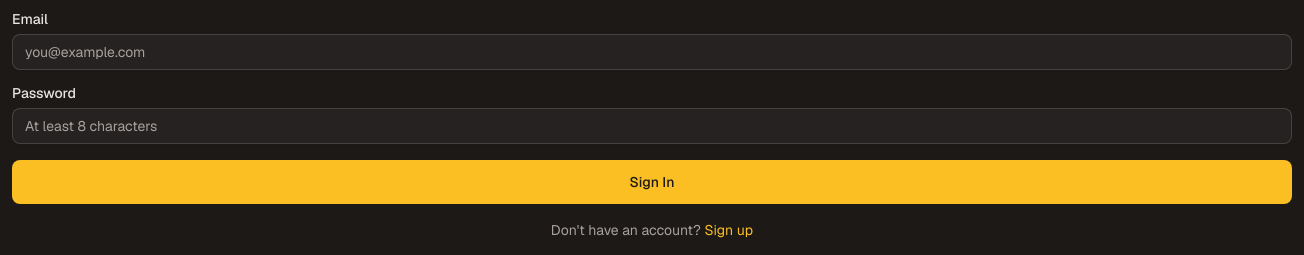
EmailPasswordForm › shows loading state during submission
The width and height of the screenshot is (1304, 255).
Step 1. Type "test@example.com" into the field labelled "Email" → (652, 52), box x1=12 y1=34 x2=1292 y2=70
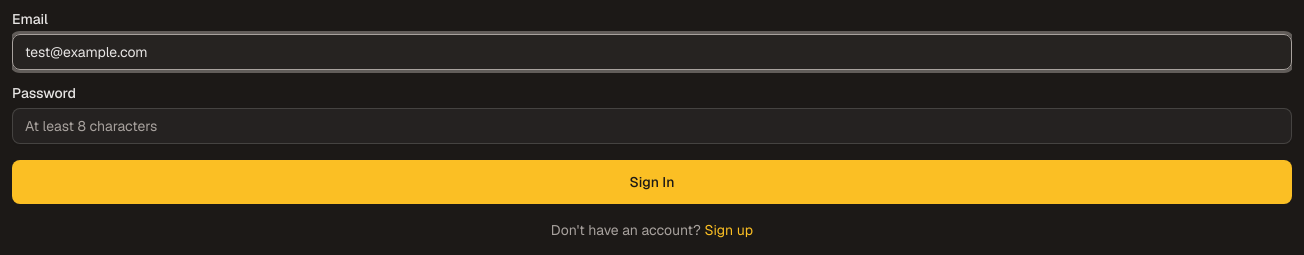
Step 2. Type "password123" into the password field labelled "Password" → (652, 126), box x1=12 y1=108 x2=1292 y2=144
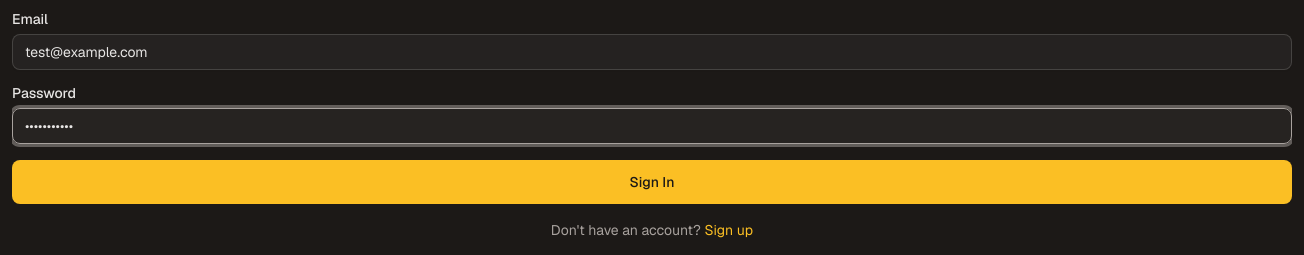
// Click submit — don't await since signIn.email never resolves
Step 3. Click the button "Sign In" → (652, 182), box x1=12 y1=160 x2=1292 y2=204
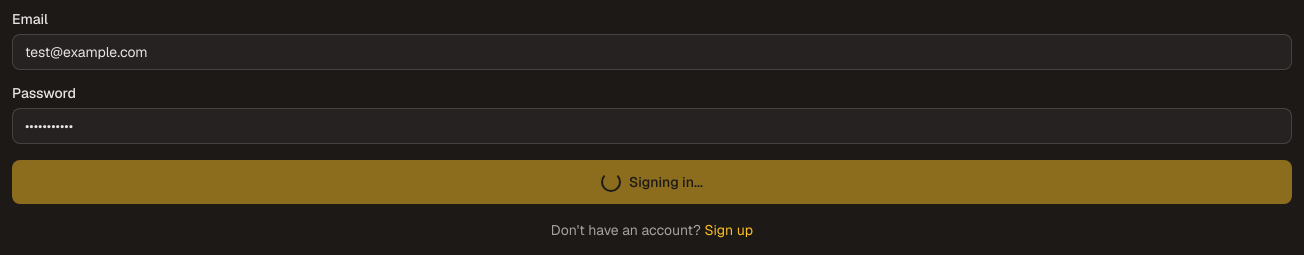
Check: the text "Signing in..." is shown, box x1=601 y1=172 x2=703 y2=192
